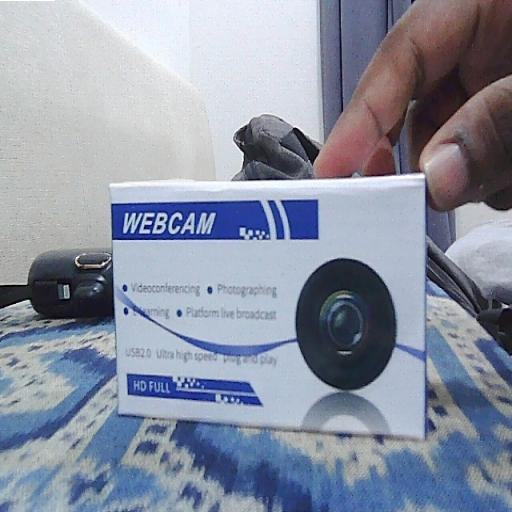webcam_box: (110, 174, 427, 439)
